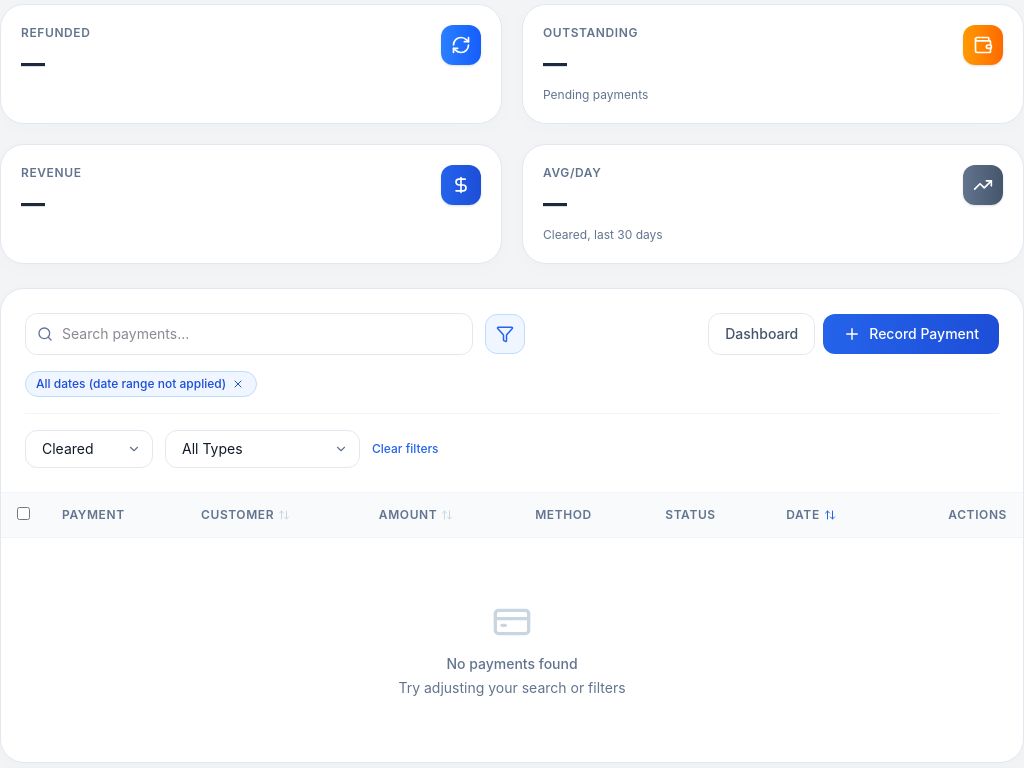
it: BUG-15 payments list ?all_dates=1 › removing the chip restores the date range and keeps the status filter
(page scrolled)
What coordinates should you click on to do the following:
click the button named "Remove filter: All dates (date range not applied)"
I would click on:
 (238, 384)
Its box is 230,376 -> 246,392.
(page scrolled)
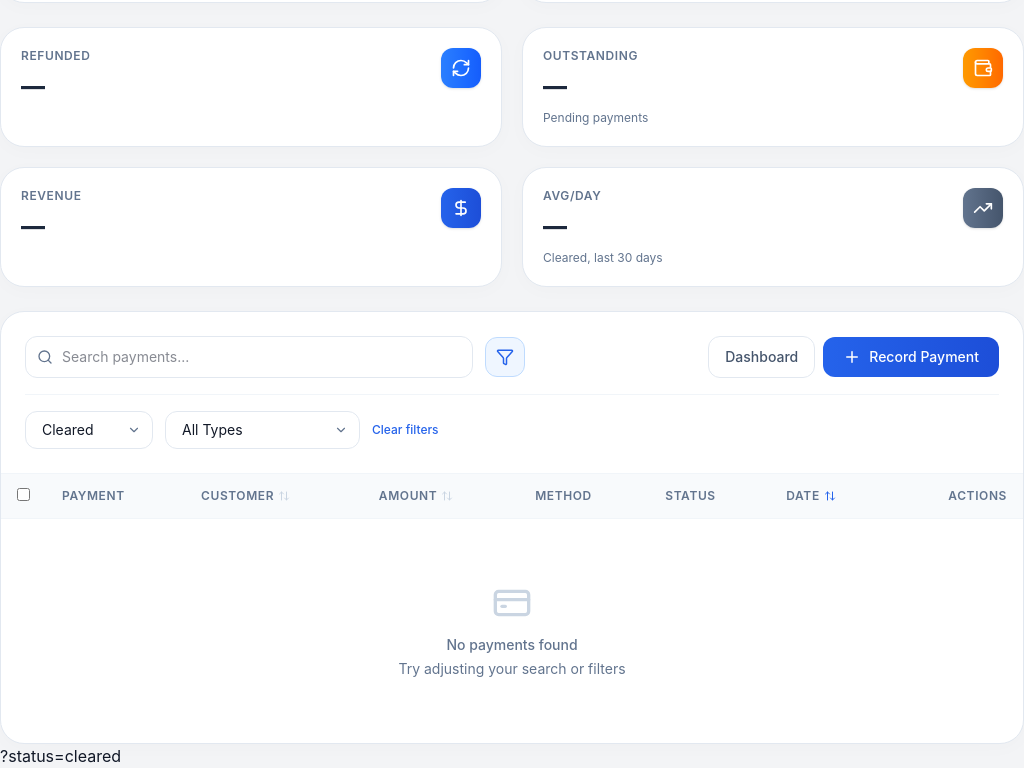
Check: the text with test id "location" reads "?status=cleared", box 0,746 -> 121,766
